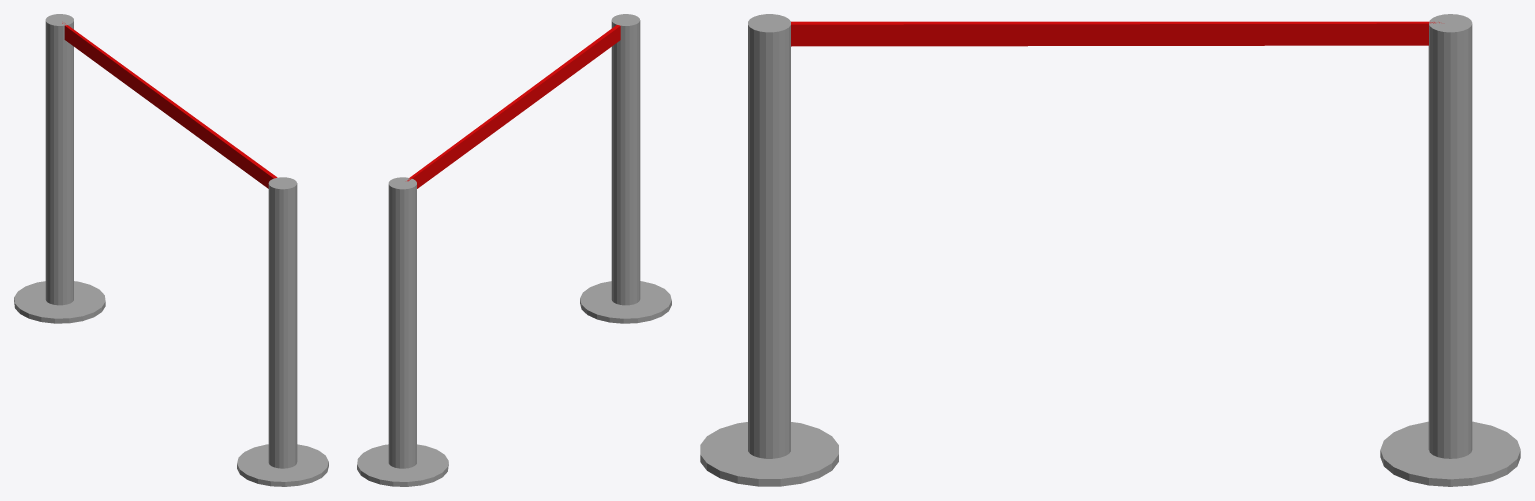
File: Barrier.fbx
3 renders of one model, left to right at view 1: azimuth 30°, elevation 25°; view 2: azimuth 150°, elevation 25°; view 3: azimuth 270°, elevation 25°, orthographic. The views are drawn at different scales.
Parts seen in each view (by area): view 1: Barrier, Barrier1; view 2: Barrier, Barrier1; view 3: Barrier, Barrier1.
Boxes of the visible parts, x1=… form: Barrier: x1=62, y1=23, x2=328, y2=486; Barrier1: x1=14, y1=14, x2=105, y2=323; Barrier: x1=407, y1=14, x2=671, y2=323; Barrier1: x1=357, y1=177, x2=448, y2=486; Barrier: x1=700, y1=14, x2=1439, y2=486; Barrier1: x1=1380, y1=14, x2=1520, y2=486.
Bounding box in the file's own units: 32.33 × 110 × 189.
